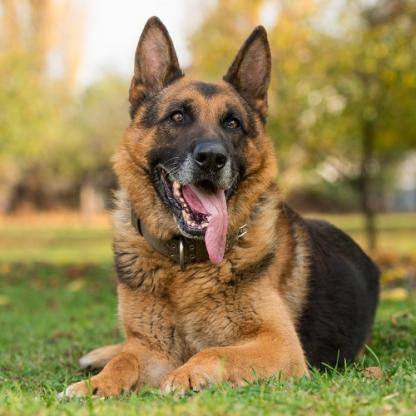german shepherd: (59, 15, 385, 396)
